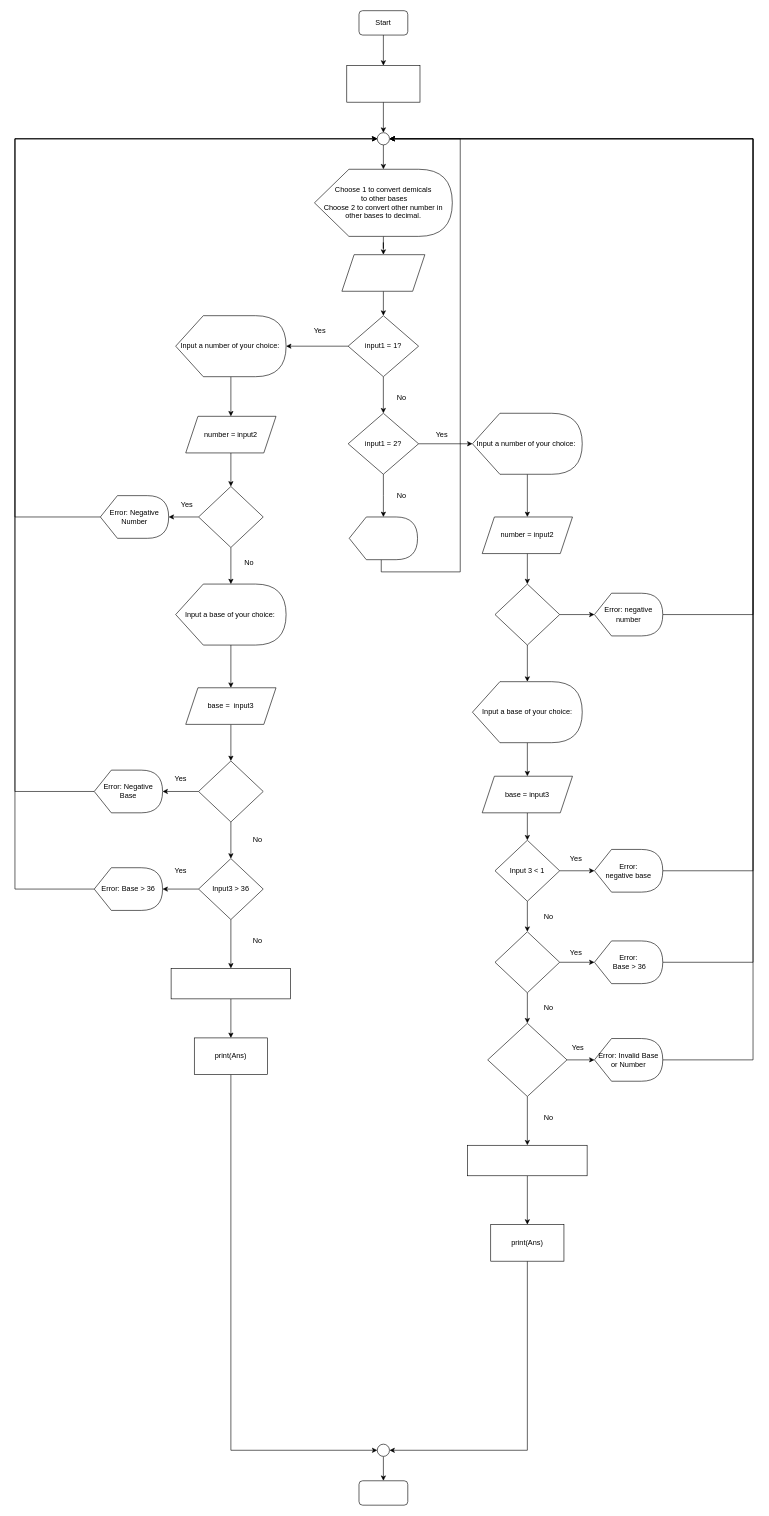
Image size: 769x1516. Some labels were removed from this diagram. The shapes that lost their labels are listed below. From the top down, each one's box as (x1, y1, x2, y2) in pixels, then its label:
(346, 65, 420, 102): choice = 0 base = 0 number = 0
(341, 254, 425, 291): Choice = input1
(198, 486, 263, 547): number < 1?
(349, 516, 418, 560): Error, please choose a defined choice
(494, 583, 560, 645): Input2 < 1
(198, 760, 263, 822): Input3 < 1
(494, 931, 560, 993): Input 3 > 36
(170, 968, 291, 999): Ans = from_decimal(num,base_order)
(487, 1023, 567, 1096): Is number valid in the base?
(467, 1145, 587, 1176): Ans = to_decimal(num,base_order)
(358, 1480, 408, 1505): End
